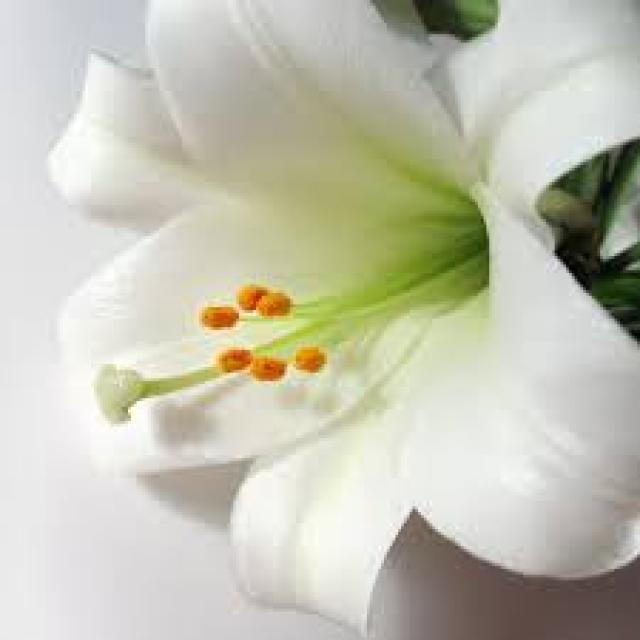lily: (17, 0, 640, 626)
